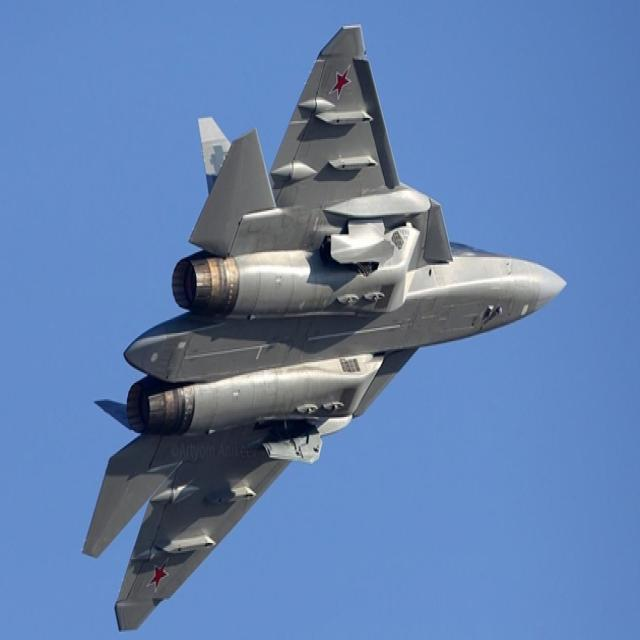MIL_Plane: (80, 23, 567, 632)
